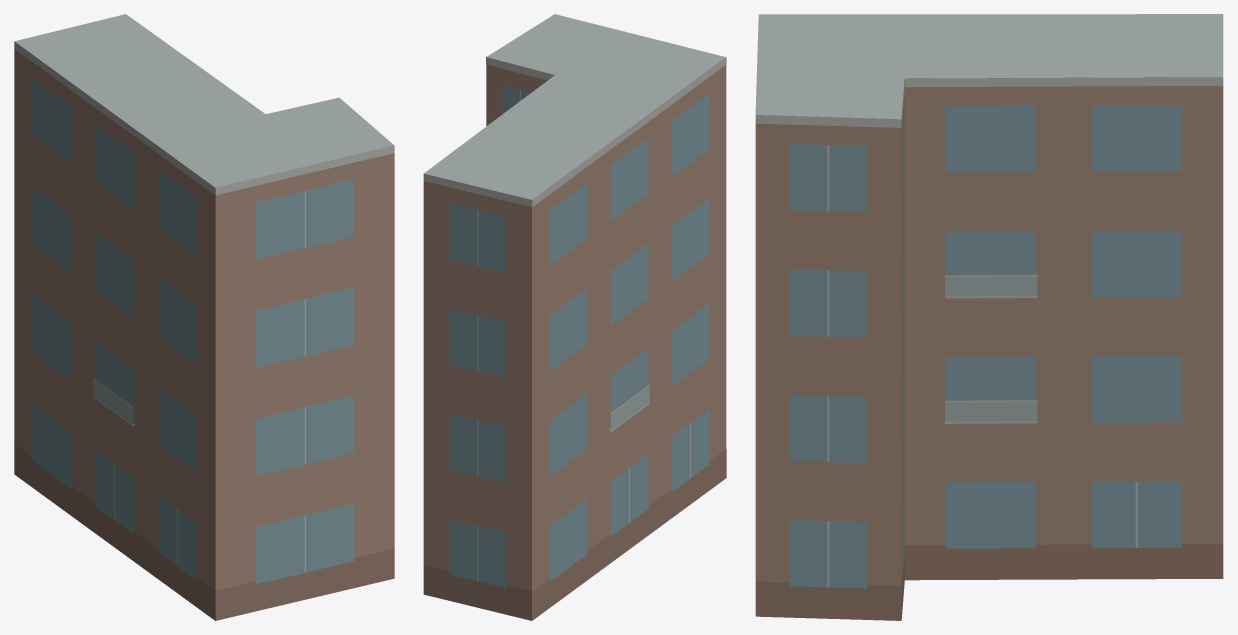
Rendered from survey-upis-32460685.glb.
The picture shows the model from 3 angles, left to right: view 1: azimuth 30°, elevation 25°; view 2: azimuth 150°, elevation 25°; view 3: azimuth 270°, elevation 25°; orthographic projection. The views are drawn at different scales.
Parts seen in each view (by area): view 1: survey-upis-32460685.tmp; view 2: survey-upis-32460685.tmp; view 3: survey-upis-32460685.tmp.
Boxes of the visible parts, x1,y1,x2,y2 form: survey-upis-32460685.tmp: [14, 14, 394, 620]; survey-upis-32460685.tmp: [423, 14, 726, 620]; survey-upis-32460685.tmp: [755, 14, 1223, 620].
Size of the model in its own units: 6.35 by 14.04 by 11.88.
